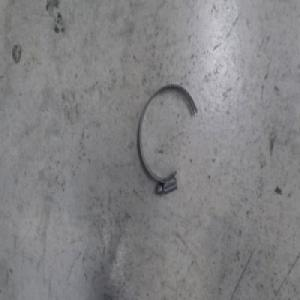AdjustableClamp: (138, 82, 199, 197)
